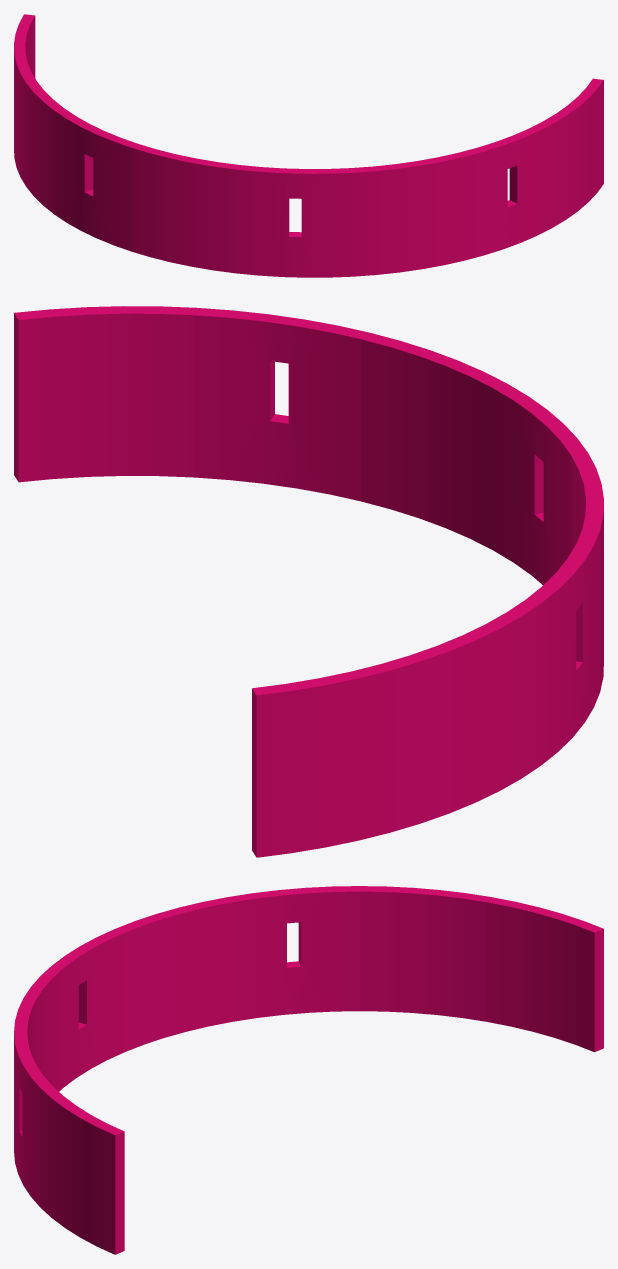
The model's file is Tower_Wall_08.fbx.
The picture shows the model from 3 angles, top to bottom: view 1: azimuth 30°, elevation 25°; view 2: azimuth 150°, elevation 25°; view 3: azimuth 270°, elevation 25°; orthographic projection. The views are drawn at different scales.
Parts seen in each view (by area): view 1: Tower_Wall_08; view 2: Tower_Wall_08; view 3: Tower_Wall_08.
Part boxes in pixels (x1,y1,x2,y2): Tower_Wall_08: (14, 14, 603, 277); Tower_Wall_08: (14, 306, 603, 857); Tower_Wall_08: (14, 886, 603, 1254).
Size of the model in its own units: 1341 by 300 by 1341.
